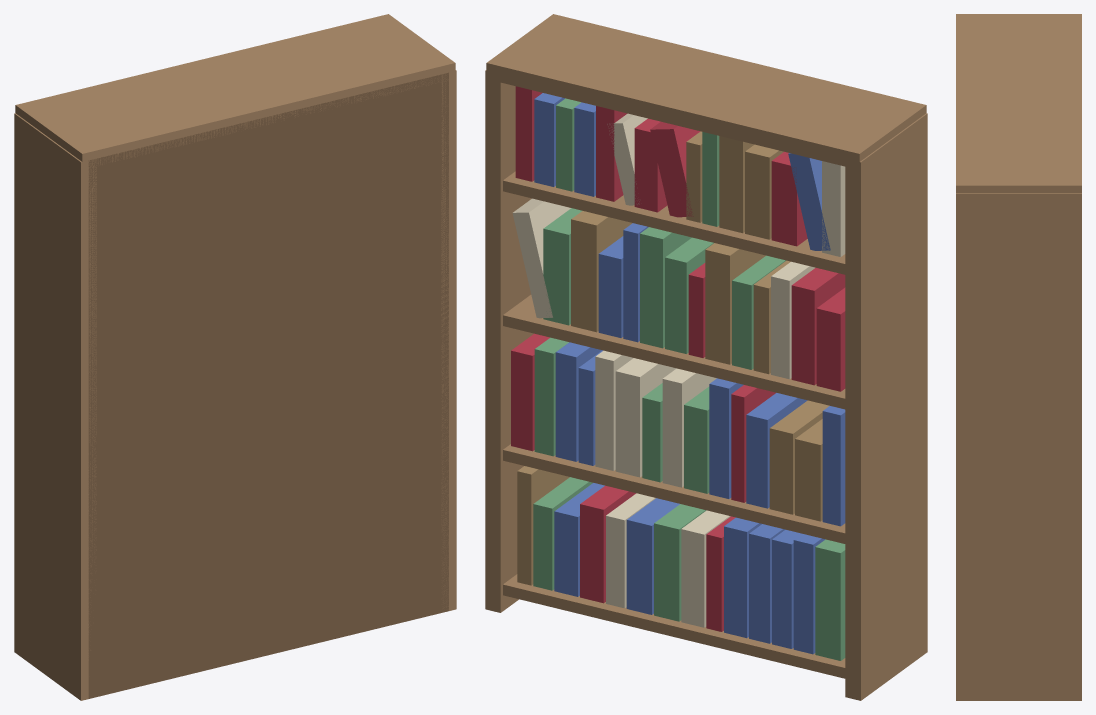
File: Bookshelf_Full.glb
3 views of the same model, side by side, from view 1: azimuth 30°, elevation 25°; view 2: azimuth 150°, elevation 25°; view 3: azimuth 270°, elevation 25° (orthographic). The views are drawn at different scales.
Visible parts, largest first — view 1: Bookshelf_Full; view 2: Bookshelf_Full; view 3: Bookshelf_Full.
Boxes of the visible parts, x1,y1,x2,y2 form: Bookshelf_Full: (14,14,456,700); Bookshelf_Full: (485,14,927,700); Bookshelf_Full: (956,14,1081,700).
Bounding box in the file's own units: 1.46 × 2.03 × 0.45.
